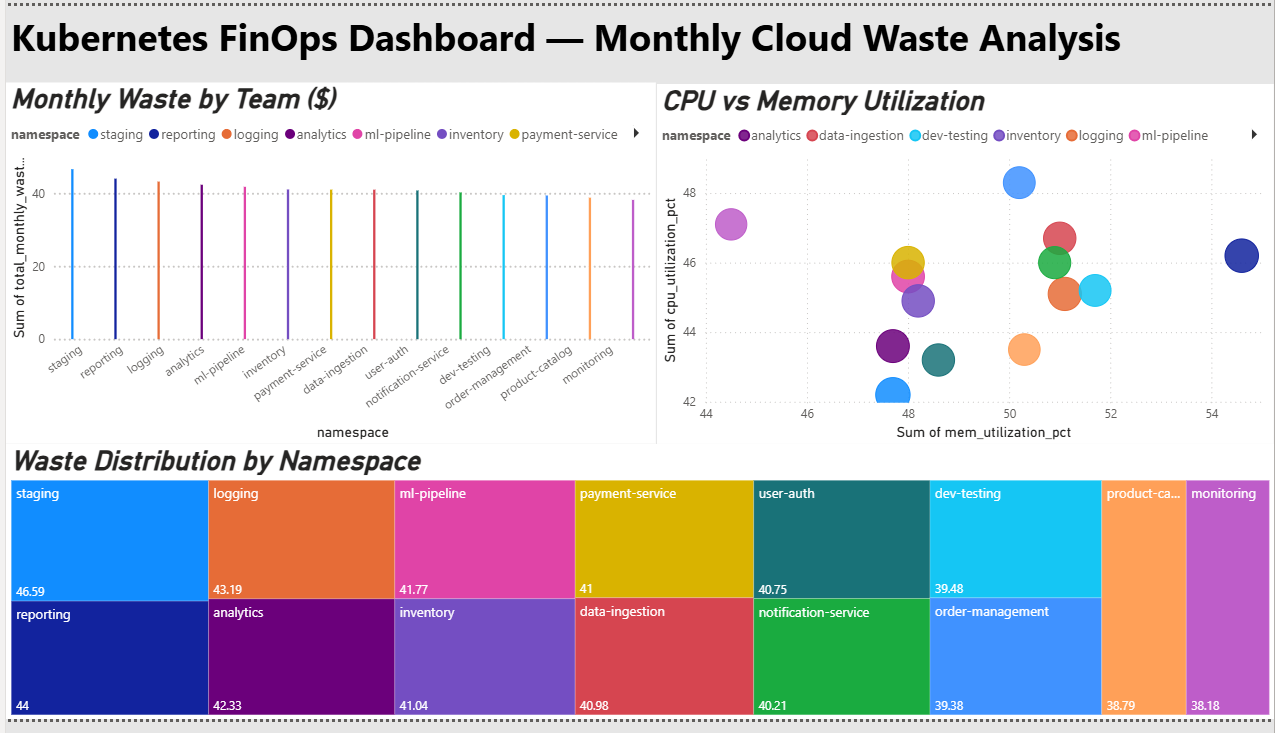

This screenshot's page, from the dashboard's own definition file:
{"tool":"powerbi","page":{"name":"Page 1","canvas":[1280,720],"ordinal":0},"visuals":[{"type":"clusteredColumnChart","title":"Monthly Waste by Team ($)","fields":{"Category":["finops_analysis.namespace"],"Y":["Sum(finops_analysis.total_monthly_waste_usd)"],"Series":["finops_analysis.namespace"]},"box":[0,77.5,655.8,364.7],"z":0},{"type":"scatterChart","title":"CPU vs Memory Utilization","fields":{"Category":["finops_analysis.namespace"],"X":["Sum(finops_analysis.mem_utilization_pct)"],"Y":["Sum(finops_analysis.cpu_utilization_pct)"],"Size":["Sum(finops_analysis.total_monthly_waste_usd)"],"Series":["finops_analysis.namespace"]},"box":[657.2,78.7,622.3,363.4],"z":1000},{"type":"treemap","title":"Waste Distribution by Namespace","fields":{"Group":["finops_analysis.namespace"],"Values":["Sum(finops_analysis.total_monthly_waste_usd)"],"Details":["finops_analysis.total_monthly_waste_usd"]},"box":[0,441.7,1280,278.3],"z":2000},{"type":"textbox","box":[0,0,1280,60],"z":3000}]}

Visuals, with their boxes in screenshot pixels (x1, y1, x2, y2), scaled from the page's 1280x720 canvas onto the 1275x733 screenshot:
"Monthly Waste by Team ($)" clusteredColumnChart: [x1=0, y1=79, x2=653, y2=450]
"CPU vs Memory Utilization" scatterChart: [x1=655, y1=80, x2=1274, y2=450]
"Waste Distribution by Namespace" treemap: [x1=0, y1=450, x2=1274, y2=732]
textbox: [x1=0, y1=0, x2=1274, y2=61]
